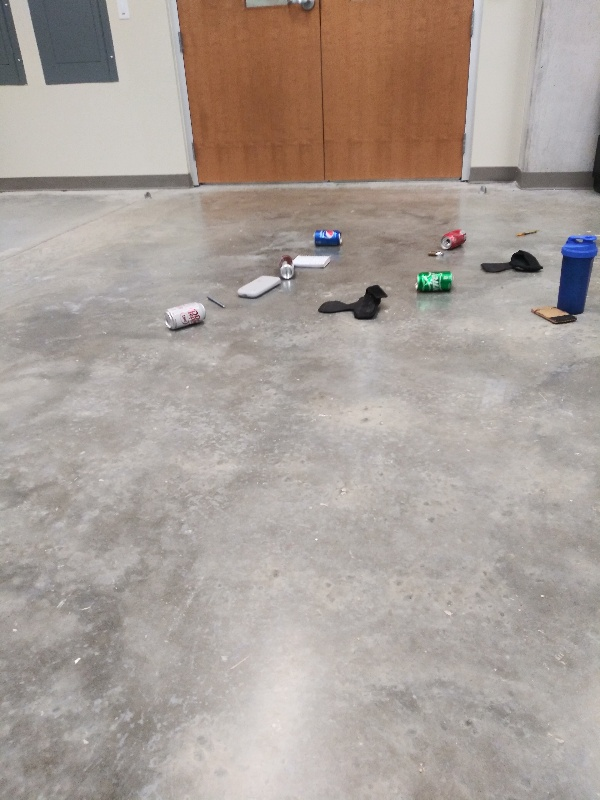can: (164, 299, 209, 335), (412, 268, 454, 300), (439, 228, 468, 253), (313, 227, 344, 249), (276, 254, 299, 281)
